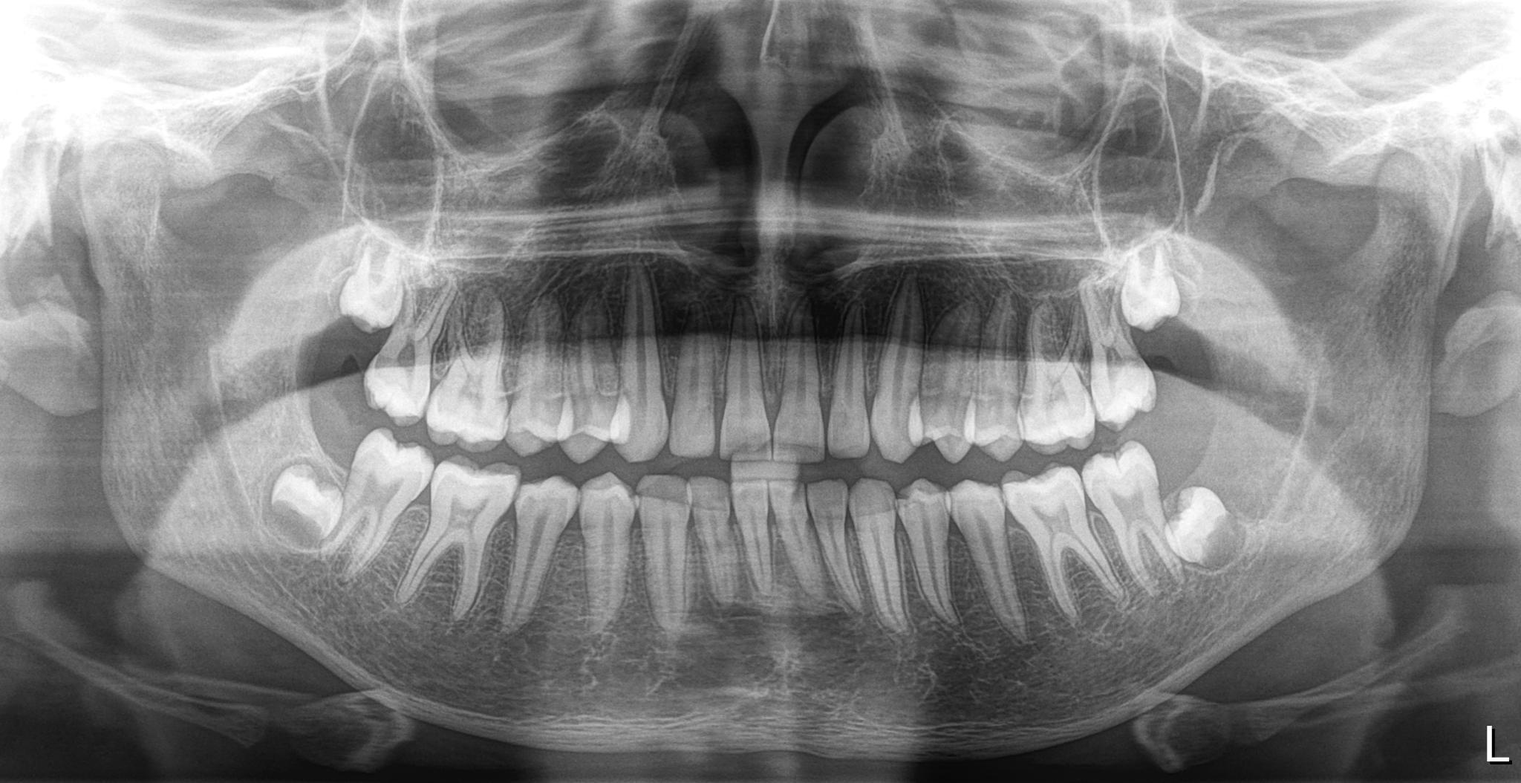Impacted Third Molar: (258, 427, 350, 553), (1123, 236, 1202, 347), (1168, 475, 1247, 581), (345, 238, 411, 332)
